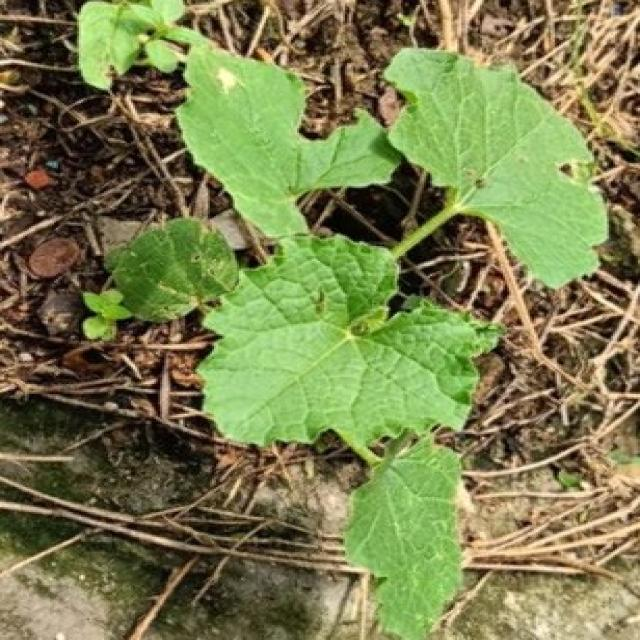weed: (78, 0, 606, 640)
